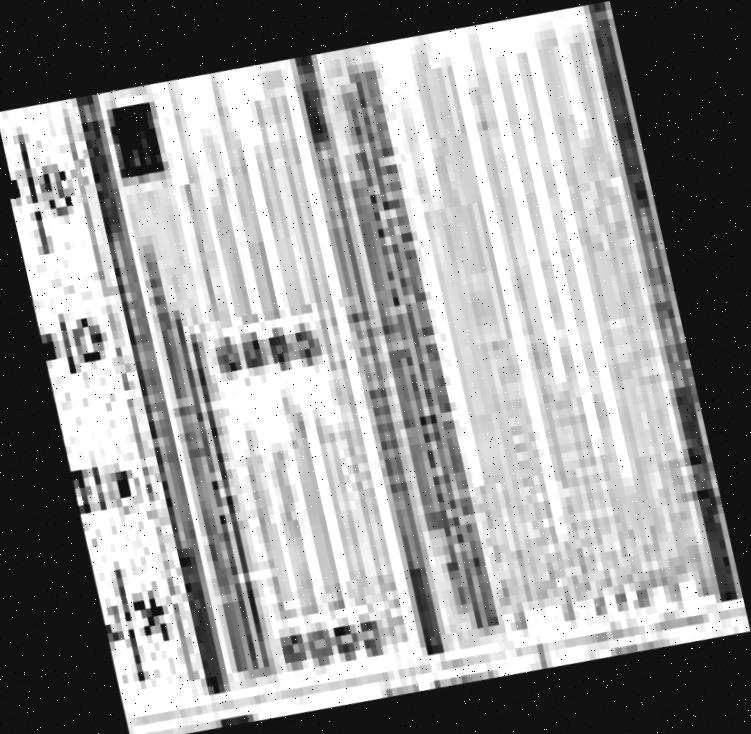electricity-bill: (1, 0, 750, 734)
